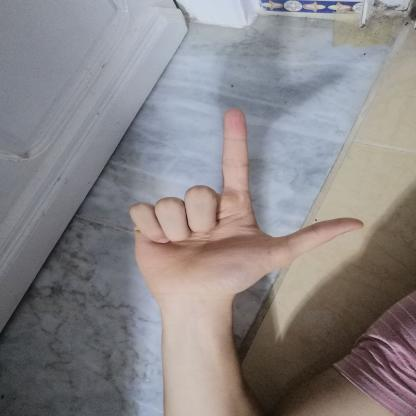LAAM: (115, 97, 382, 311)
